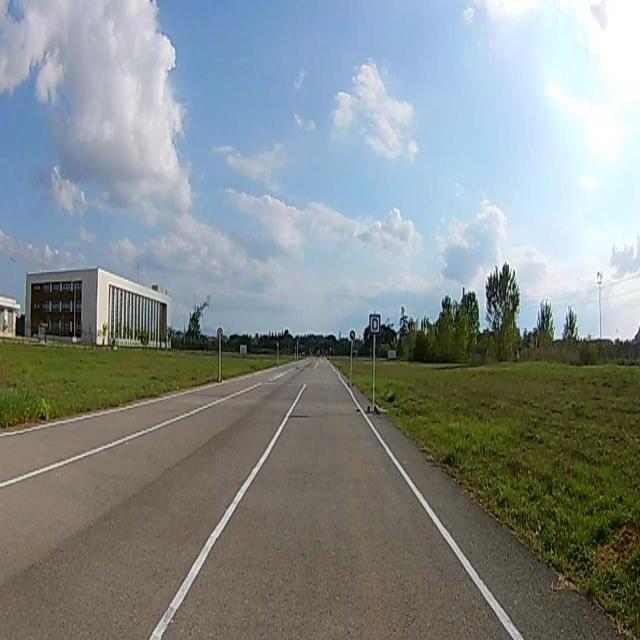durak: (370, 316, 380, 332)
